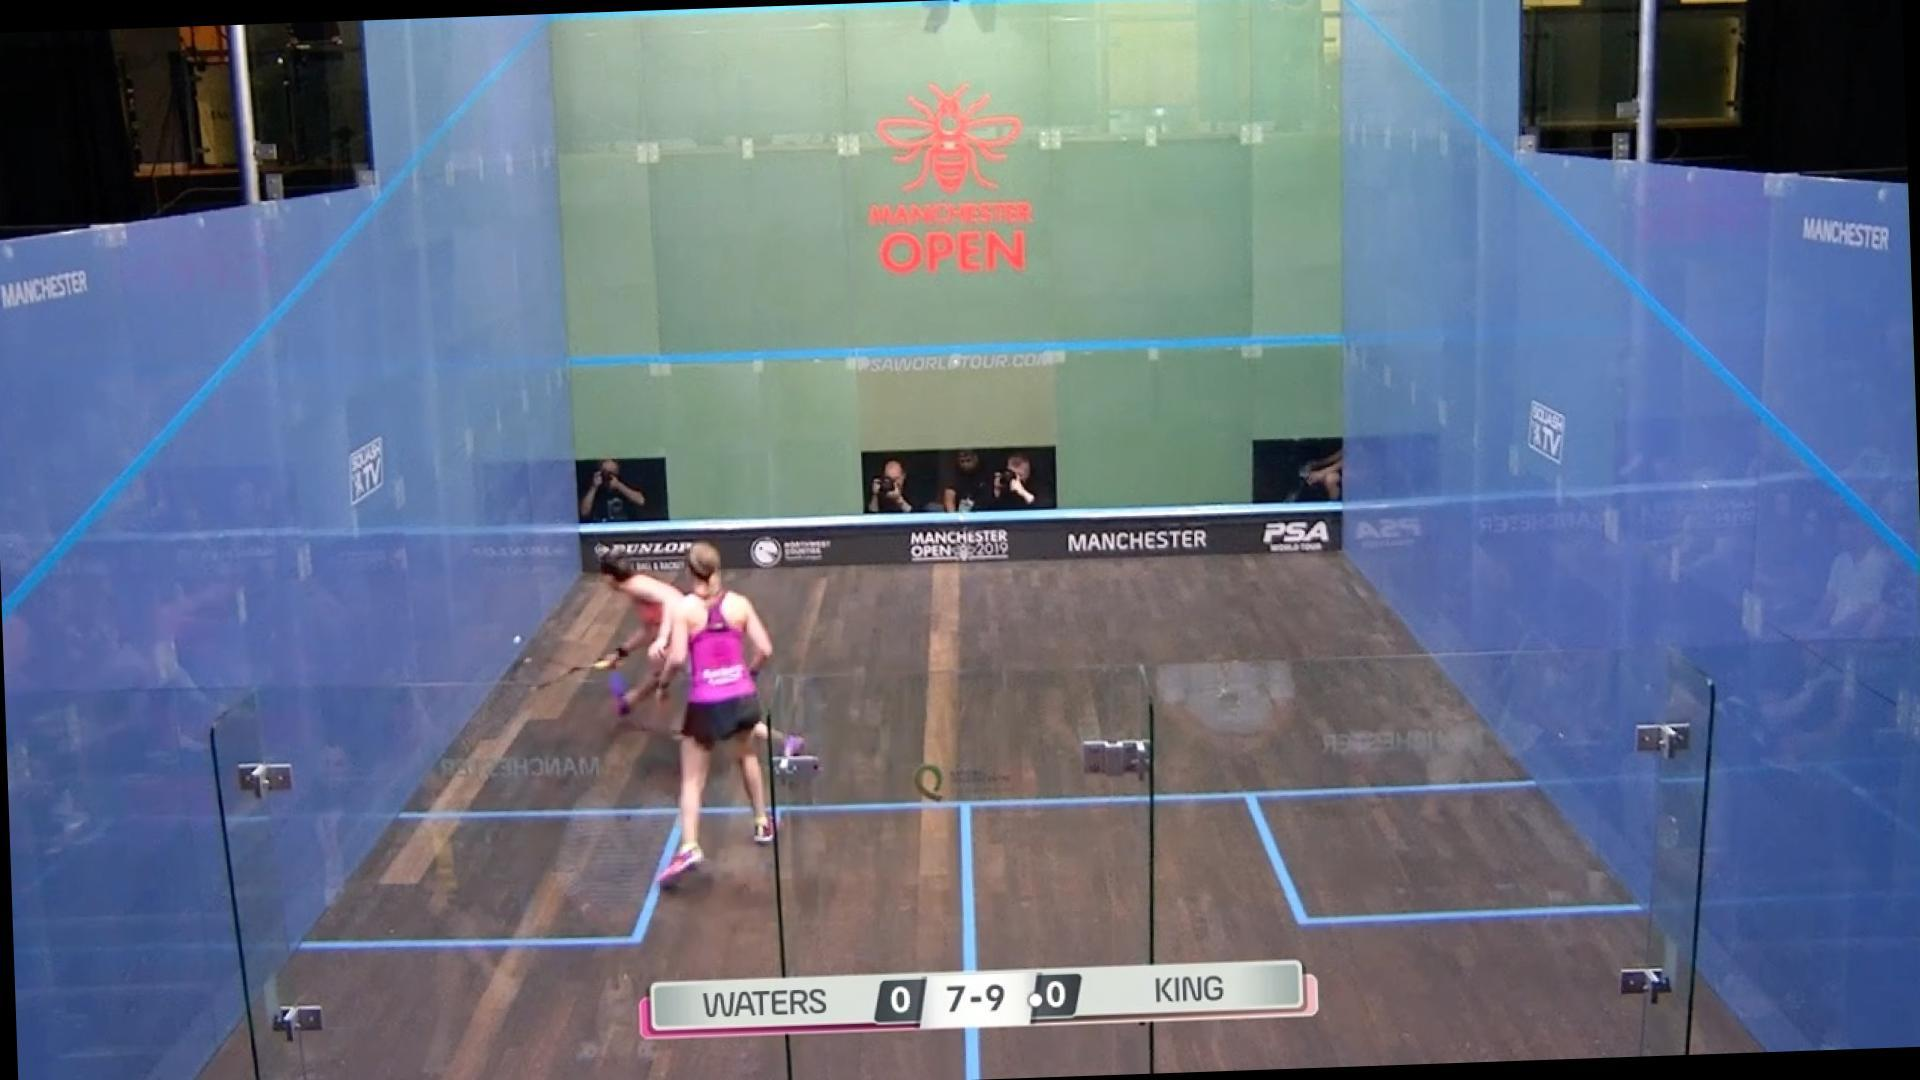Squash-Ball: (493, 615, 542, 669)
